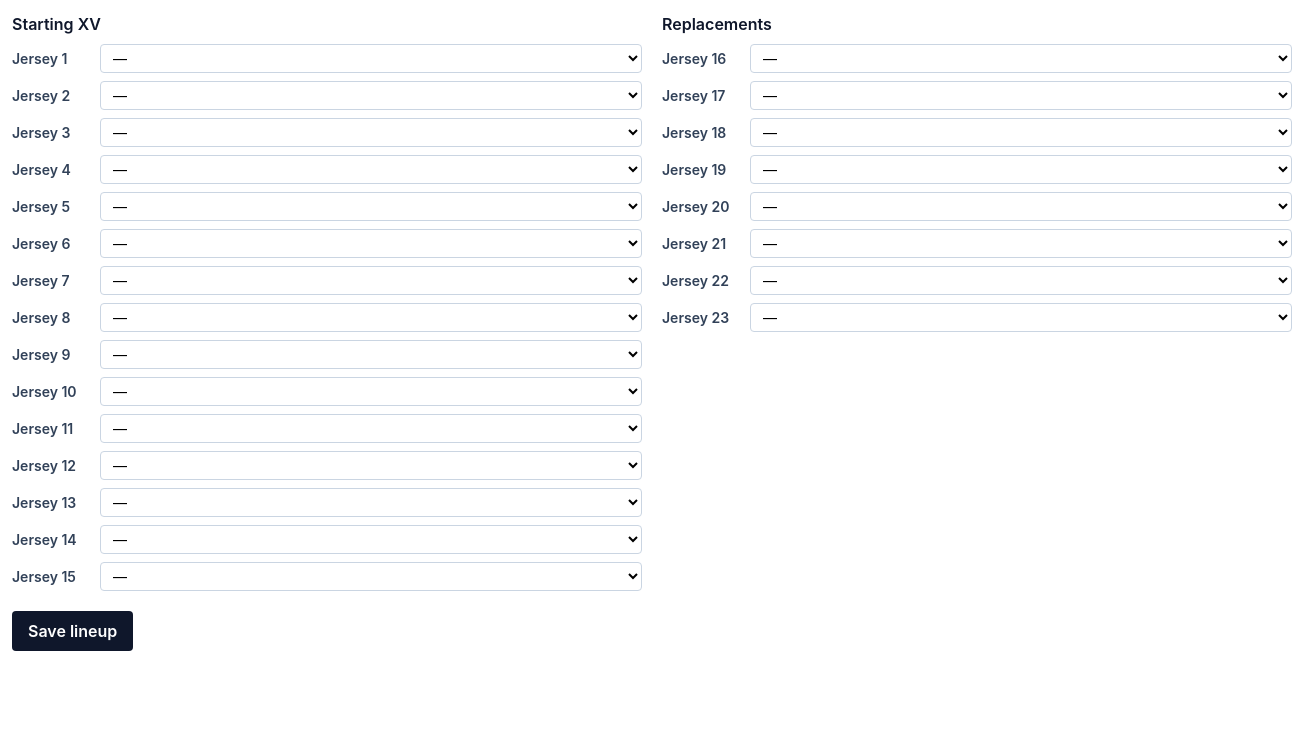
Test: LineupPicker › refuses to save an incomplete XV and says how many are missing
This screenshot has width=1304, height=732.
Step 1. Select "First Last1" in the dropdown labelled "Jersey 1" → (371, 58), box x1=100 y1=44 x2=642 y2=73
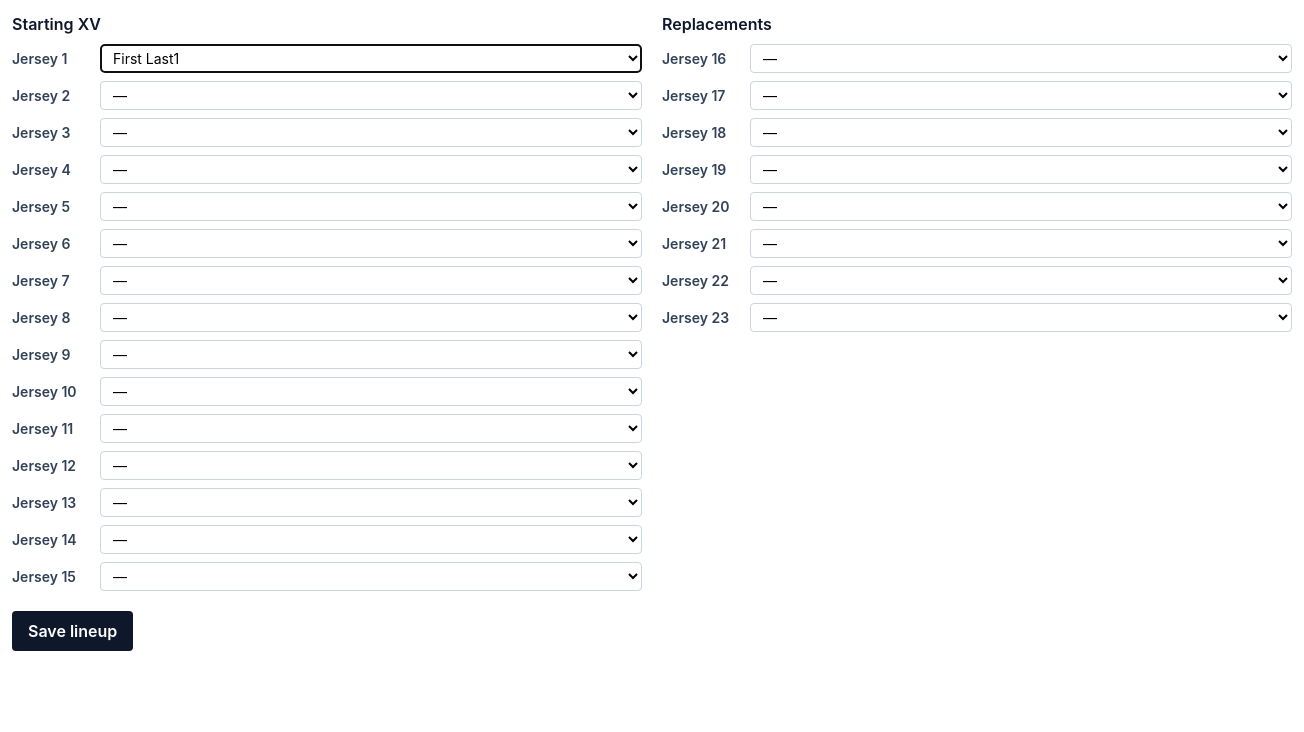
Step 2. Click the button "Save lineup" → (73, 631), box x1=12 y1=611 x2=133 y2=651
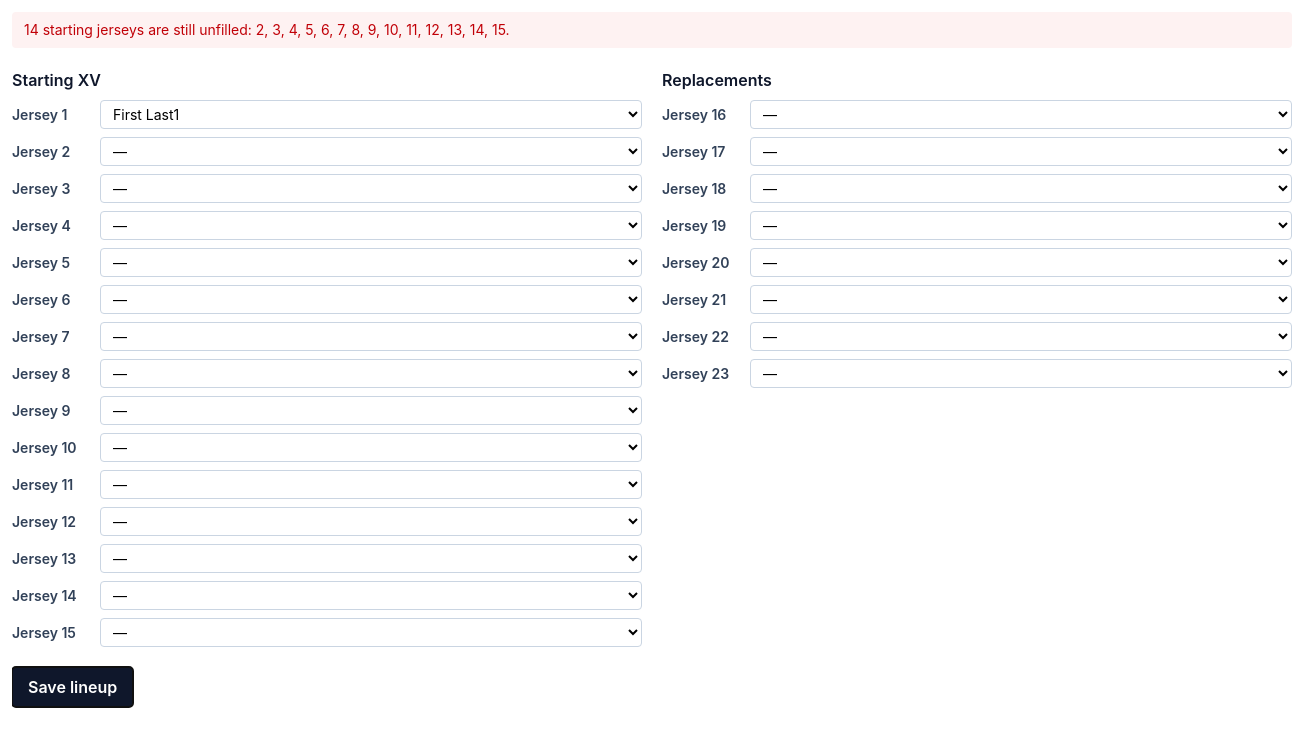
Expected: the message shows "14", x1=24 y1=21 x2=510 y2=38
